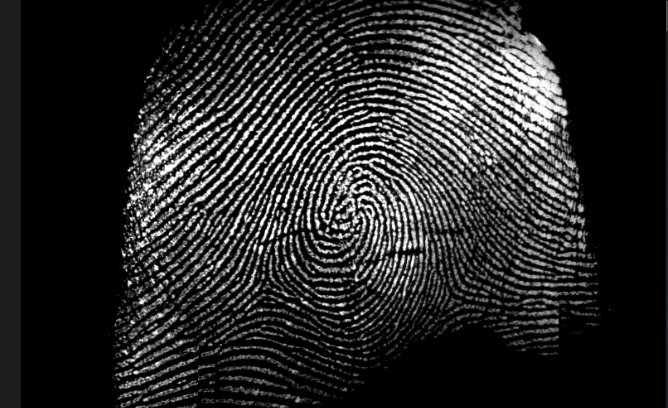nucelo: (318, 186, 352, 235)
verticilo: (253, 255, 289, 297), (433, 281, 469, 315)
